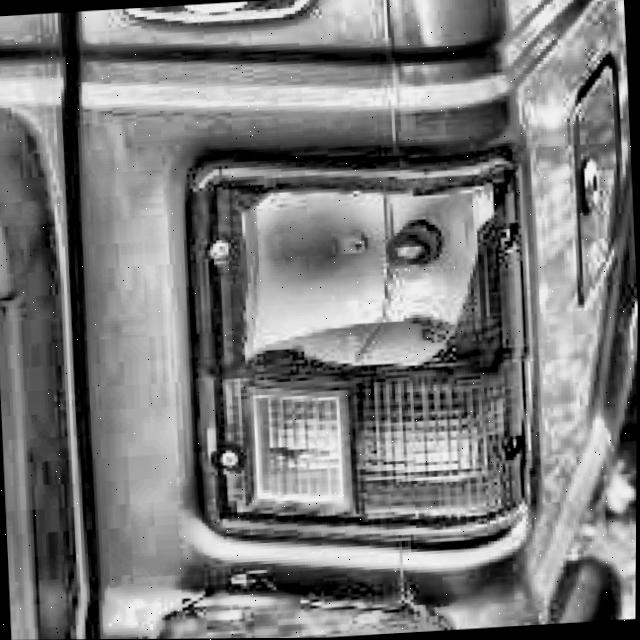tail_lamp: (210, 171, 516, 381)
